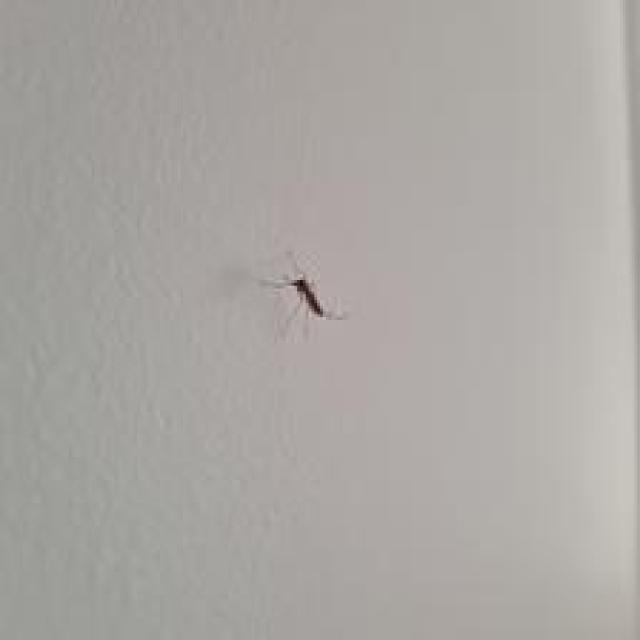Culex: (260, 248, 331, 332)
